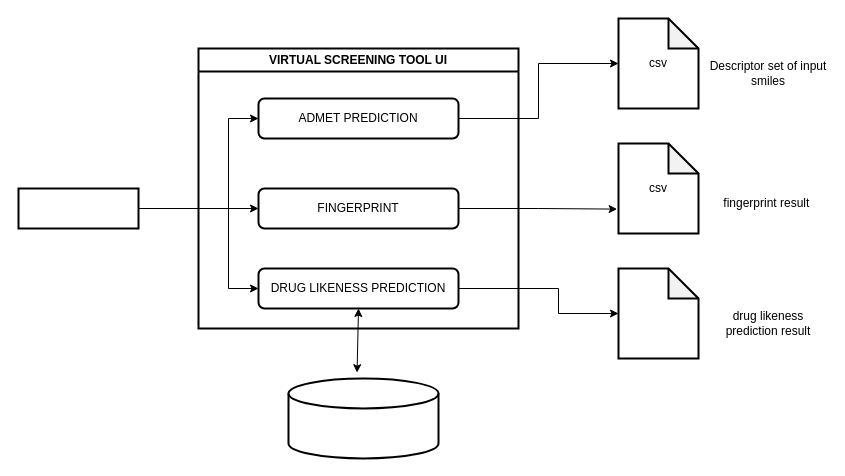
This 845x476 diagram has some shape labels left out. The centre of each missing label's shape, as x and y in pixels:
"G CONV model" goes at point (363, 418).
"SMILE STRING" goes at point (78, 208).
"txt" goes at point (658, 313).
